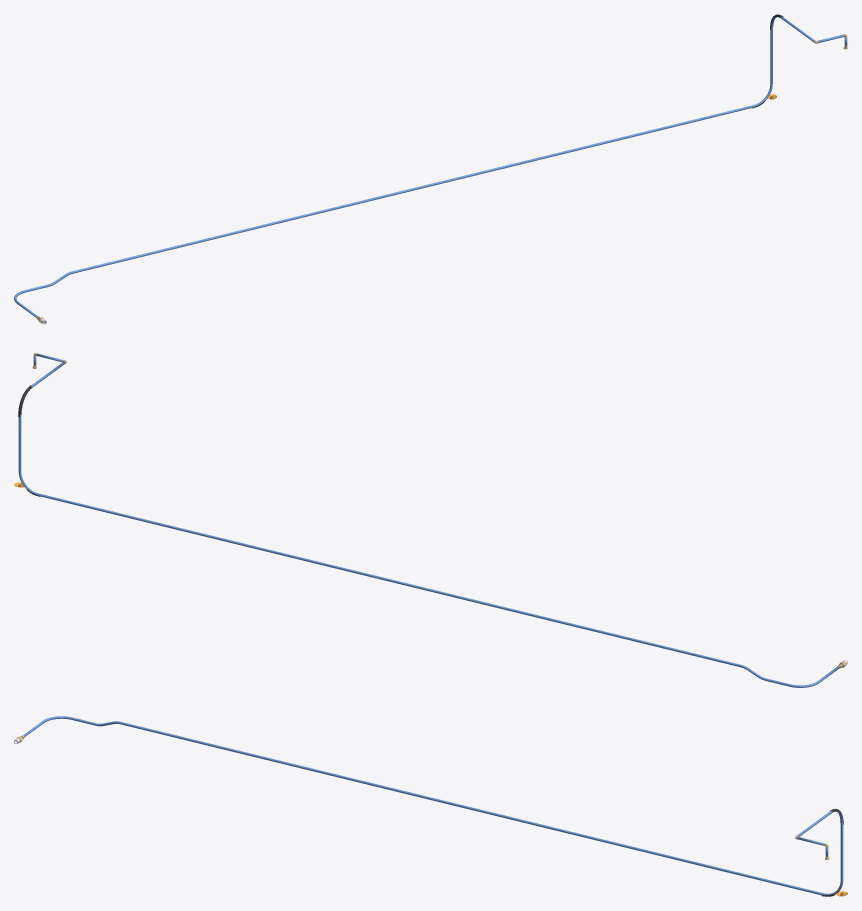
The model's file is pipes_supply__water-city_filter_and_softener-yes_and_plumbing-pex.glb.
The picture shows the model from 3 angles, top to bottom: view 1: azimuth 30°, elevation 25°; view 2: azimuth 150°, elevation 25°; view 3: azimuth 330°, elevation 25°; orthographic projection. The views are drawn at different scales.
Parts seen in each view (by area): view 1: pipe_supply_to_softener__pex; view 2: pipe_supply_to_softener__pex; view 3: pipe_supply_to_softener__pex.
Part boxes in pixels (<box>): pipe_supply_to_softener__pex: <box>14,16,847,317</box>; pipe_supply_to_softener__pex: <box>18,353,840,687</box>; pipe_supply_to_softener__pex: <box>23,716,843,895</box>.
Bounding box in the file's own units: 8.08 × 0.9996 × 0.8451.
